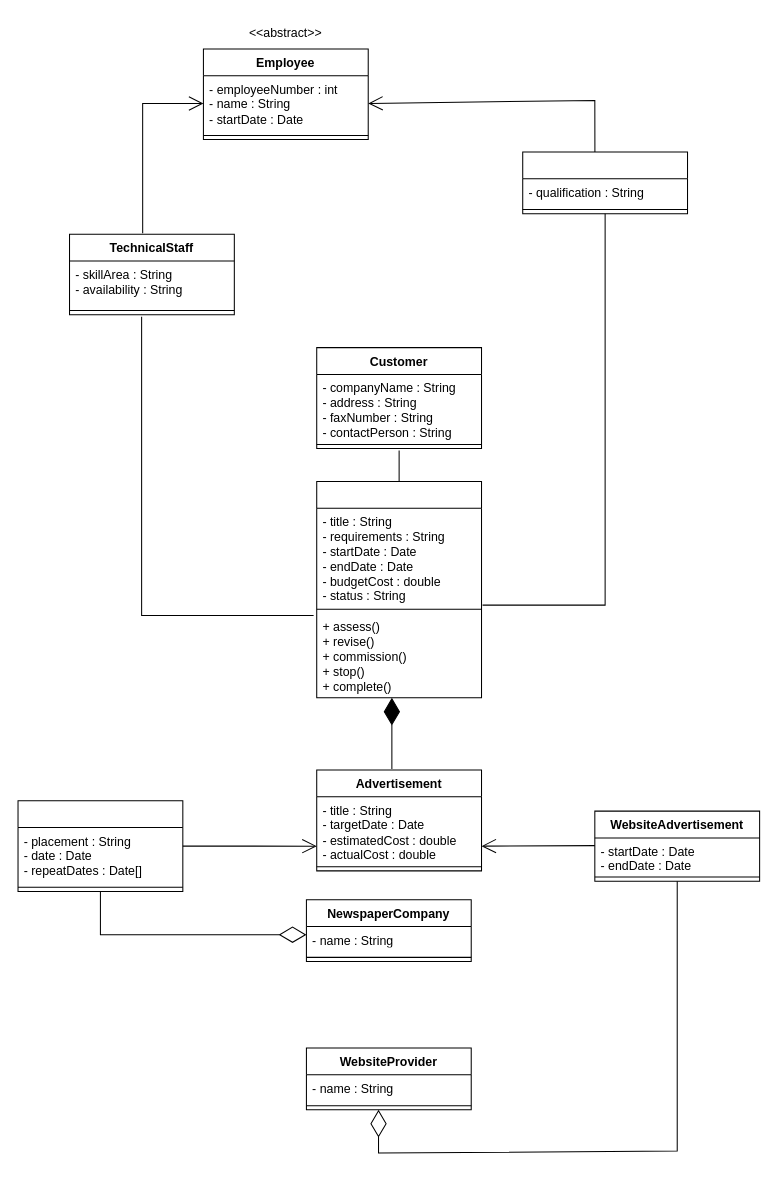
The diagram is 778 pixels wide and 1198 high, and some of its shapes have lost their labels. Each missing label, with the box of its shape:
AdministrativeStaff: (522, 151, 688, 214)
Campaign: (316, 480, 482, 698)
NewspaperAdvertisement: (17, 800, 183, 891)
